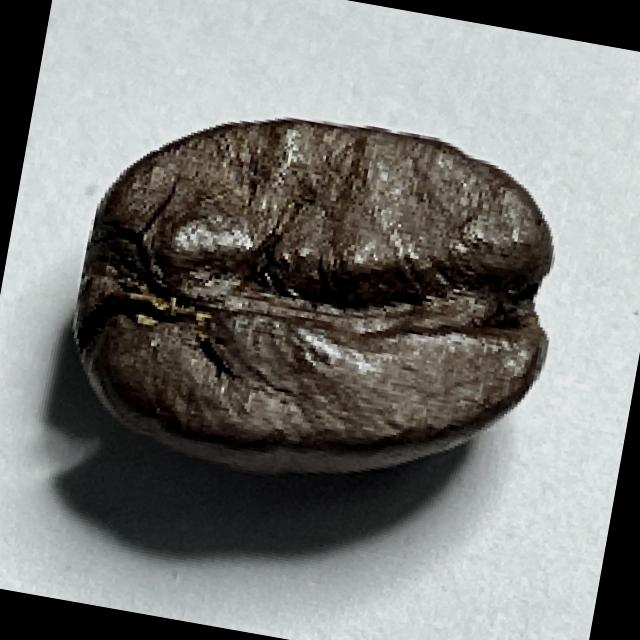bean: (49, 83, 578, 516)
